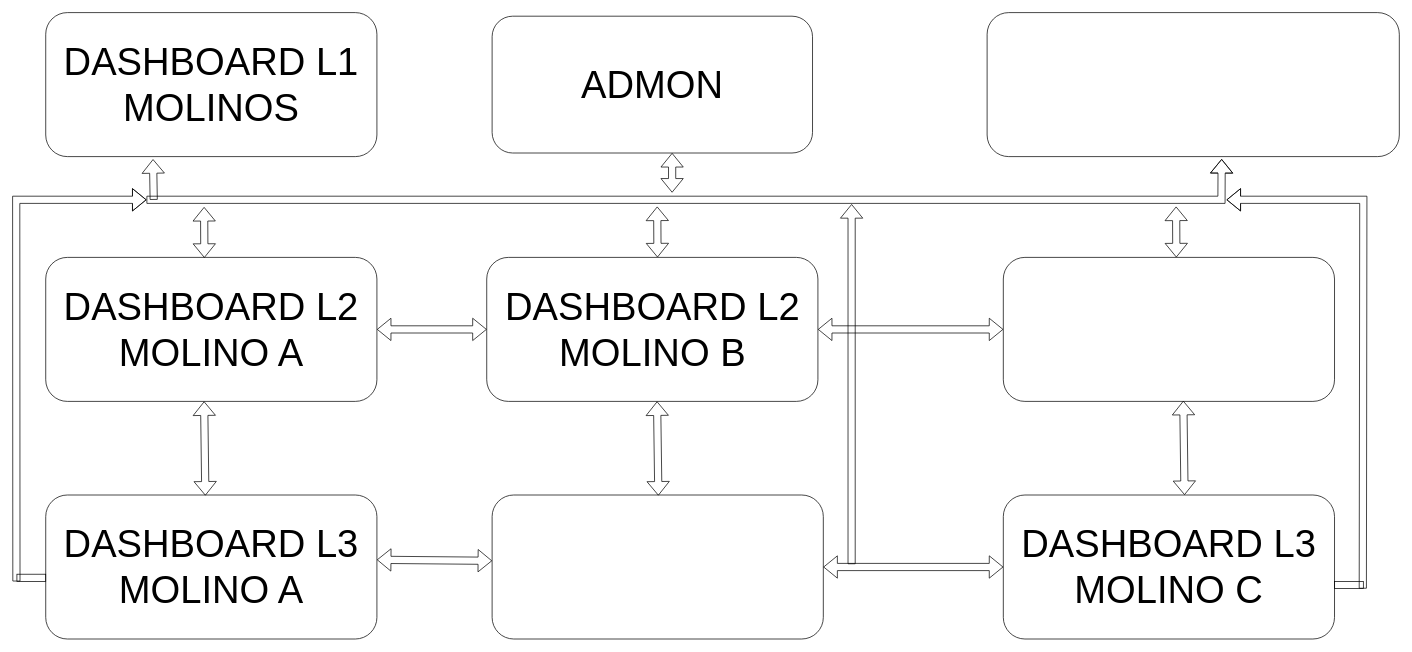
This 1412x652 diagram has some shape labels left out. The box of each missing label's shape, as (x1, y1, x2, y2) in pixels:
DASHBOARD L2 MOLINO C: (1003, 257, 1335, 401)
DASHBOARD L3 MOLINO B: (491, 494, 823, 639)
REPORTS: (986, 12, 1399, 157)
